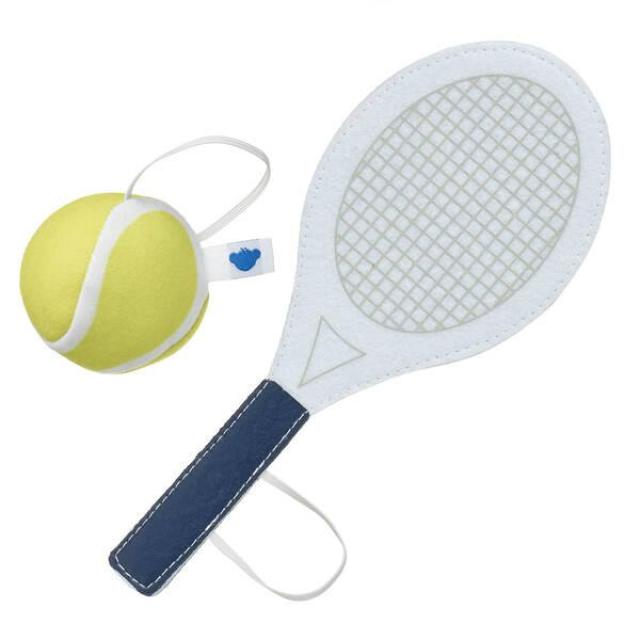ball: (16, 190, 233, 383)
